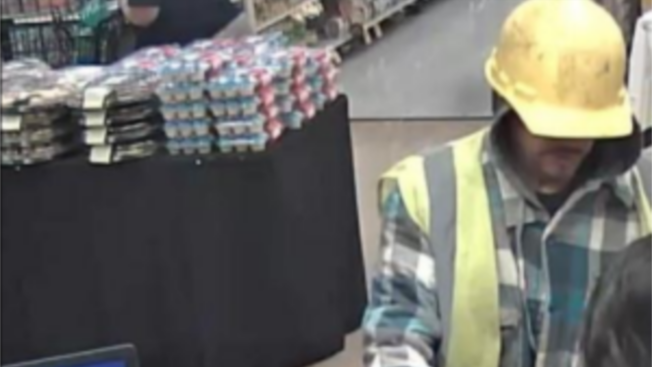helmet: (484, 3, 637, 102)
